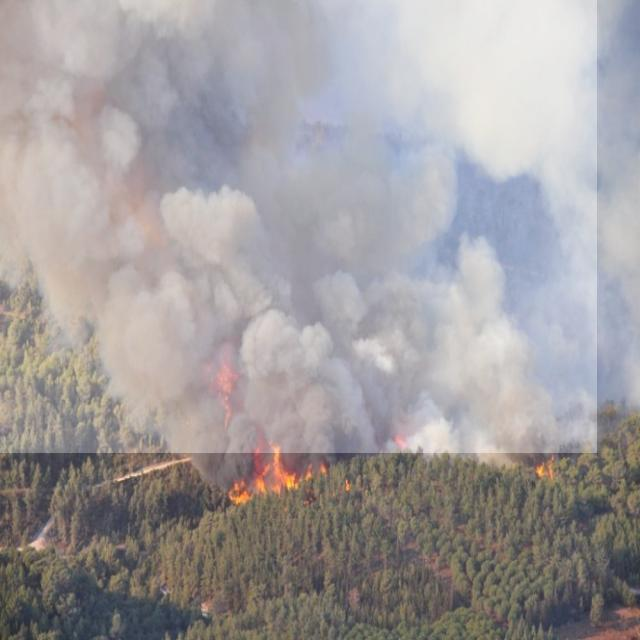Smoke: (0, 0, 597, 453)
